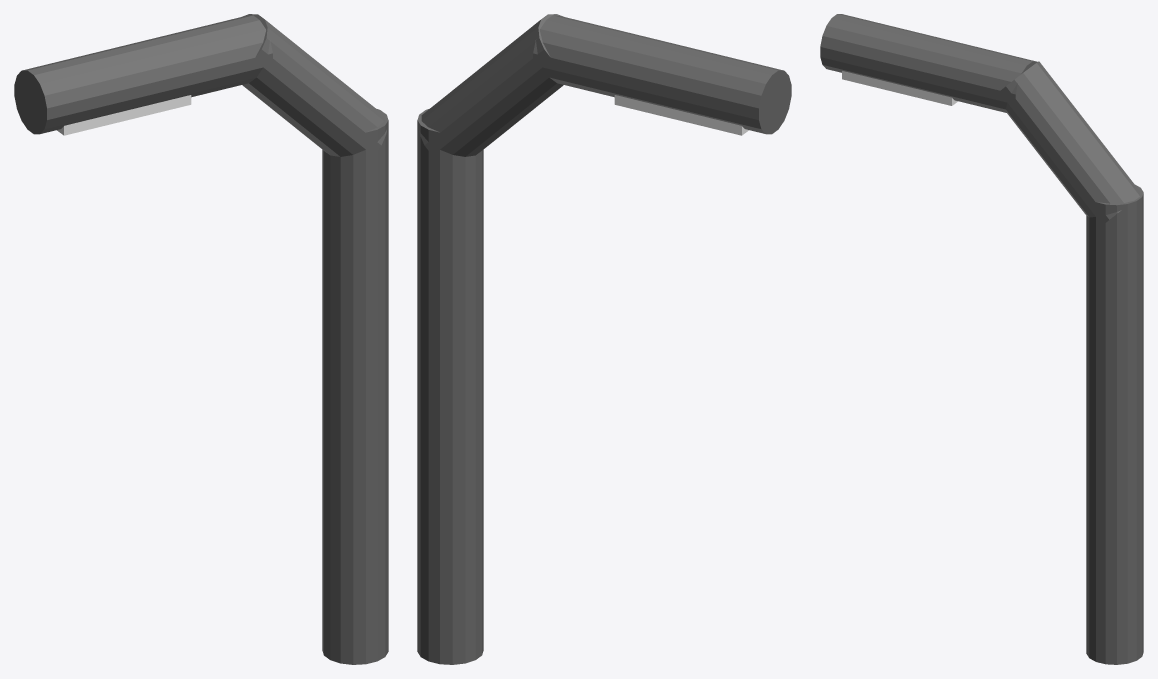
Rendered from lampadère.gltf.
3 views of the same model, side by side, from view 1: azimuth 30°, elevation 25°; view 2: azimuth 150°, elevation 25°; view 3: azimuth 330°, elevation 25° (orthographic). The views are drawn at different scales.
Parts seen in each view (by area): view 1: cylinder (×3), cuboid; view 2: cylinder (×3), cuboid; view 3: cylinder (×3), cuboid.
Part boxes in pixels (bbox=[...]): cylinder (×3): bbox=[14, 14, 388, 664]; cuboid: bbox=[57, 95, 191, 135]; cylinder (×3): bbox=[417, 14, 791, 664]; cuboid: bbox=[614, 95, 748, 135]; cylinder (×3): bbox=[820, 14, 1143, 664]; cuboid: bbox=[842, 71, 957, 105].
Size of the model in its own units: 1.56 by 2.78 by 0.25.
Materials: 2 (2 with a texture image).
